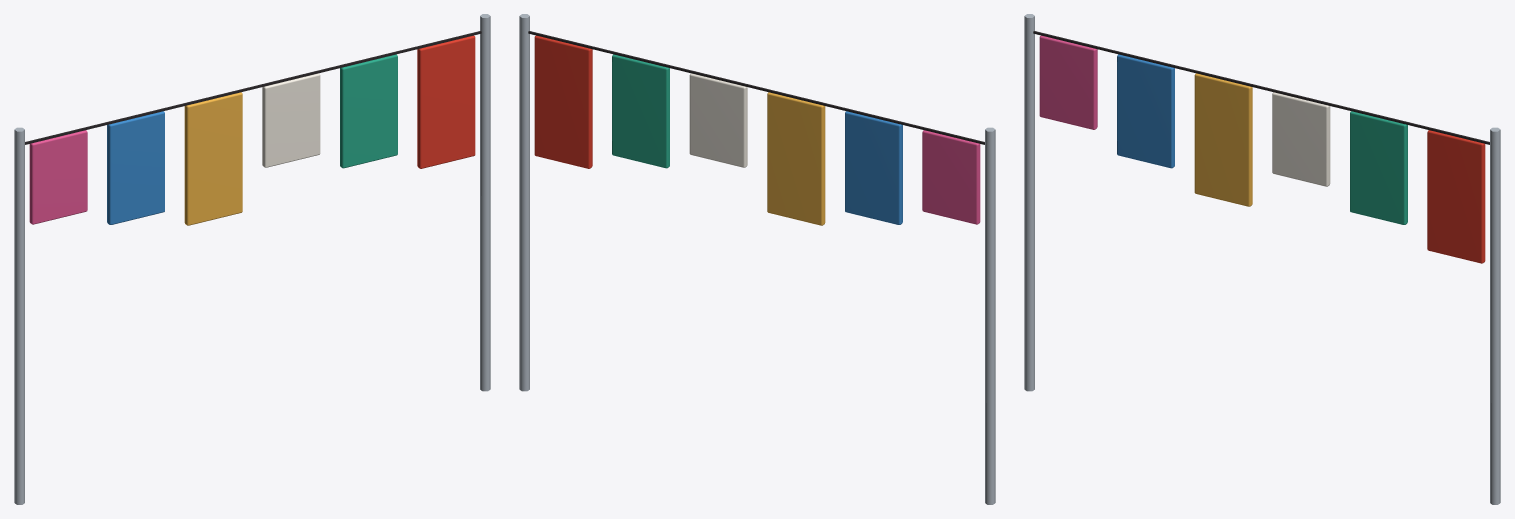
File: clothes_line.glb
3 renders of one model, left to right at view 1: azimuth 30°, elevation 25°; view 2: azimuth 150°, elevation 25°; view 3: azimuth 330°, elevation 25°, orthographic.
Parts seen in each view (by area): view 1: Cloth.005, Cloth.002, Cloth.004, Cloth.001, Cloth, Cloth.003, Pole, Pole.001, Line; view 2: Cloth.005, Cloth.002, Cloth.004, Cloth.001, Cloth, Cloth.003, Pole, Pole.001, Line; view 3: Cloth.005, Cloth.002, Cloth.001, Cloth.004, Cloth, Cloth.003, Pole.001, Pole, Line.
Part boxes in pixels (x1,y1,x2,y2): Cloth.005: (417, 35, 475, 168); Cloth.002: (184, 92, 242, 225); Cloth.004: (340, 54, 397, 168); Cloth.001: (107, 111, 164, 224); Cloth: (29, 130, 87, 224); Cloth.003: (262, 73, 320, 167); Pole: (14, 127, 24, 504); Pole.001: (480, 14, 490, 391); Line: (25, 31, 481, 144); Cloth.005: (534, 35, 592, 168); Cloth.002: (767, 92, 825, 225); Cloth.004: (612, 54, 669, 168); Cloth.001: (845, 111, 902, 224); Cloth: (922, 130, 980, 224); Cloth.003: (689, 73, 747, 167); Pole: (985, 127, 995, 504); Pole.001: (519, 14, 529, 391); Line: (528, 31, 984, 144); Cloth.005: (1427, 130, 1485, 263); Cloth.002: (1194, 73, 1252, 206); Cloth.001: (1117, 54, 1174, 168); Cloth.004: (1350, 111, 1407, 224); Cloth: (1039, 35, 1097, 129); Cloth.003: (1272, 92, 1330, 186); Pole.001: (1490, 127, 1500, 504); Pole: (1024, 14, 1034, 391); Line: (1033, 31, 1489, 144).
Bounding box in the file's own units: 3.05 × 2.3 × 0.06.
